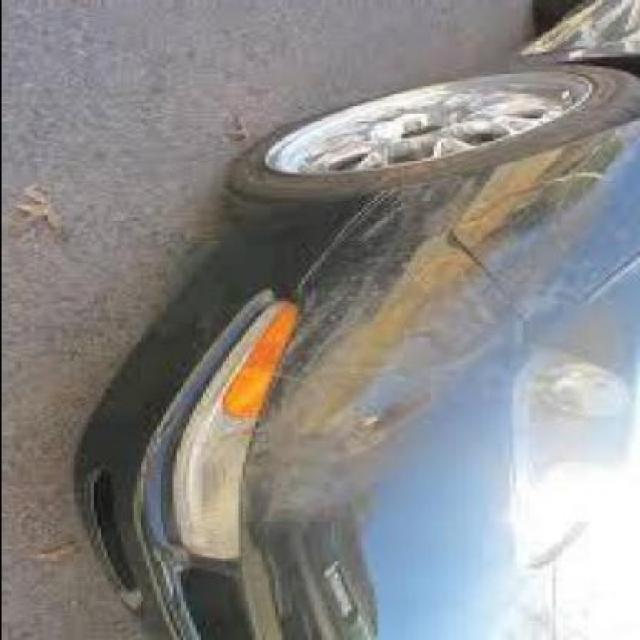damage: (241, 143, 619, 515)
